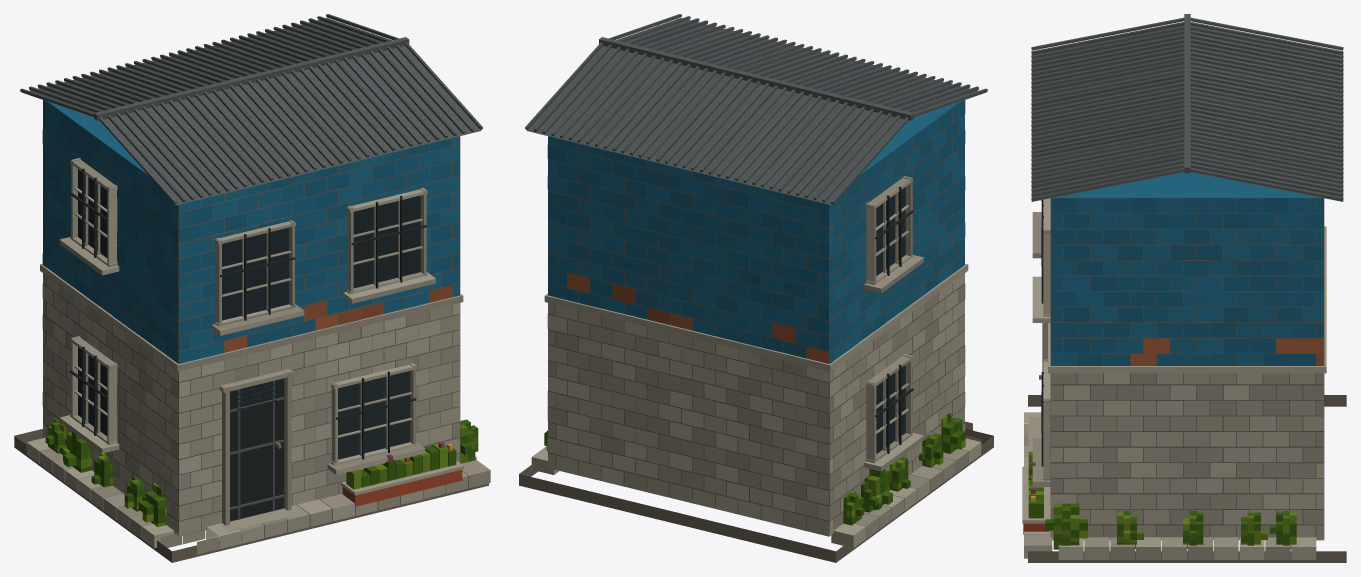
File: SM_StreetFrontage_109.fbx
3 views of the same model, side by side, from view 1: azimuth 30°, elevation 25°; view 2: azimuth 150°, elevation 25°; view 3: azimuth 270°, elevation 25° (orthographic).
Parts seen in each view (by area): view 1: SM_StreetFrontage_109; view 2: SM_StreetFrontage_109; view 3: SM_StreetFrontage_109.
Part boxes in pixels (box(x1,y1,x2,y2)): SM_StreetFrontage_109: box(14, 14, 490, 562); SM_StreetFrontage_109: box(519, 14, 993, 562); SM_StreetFrontage_109: box(1022, 14, 1346, 562).
Size of the model in its own units: 8 by 6.84 by 9.16.
